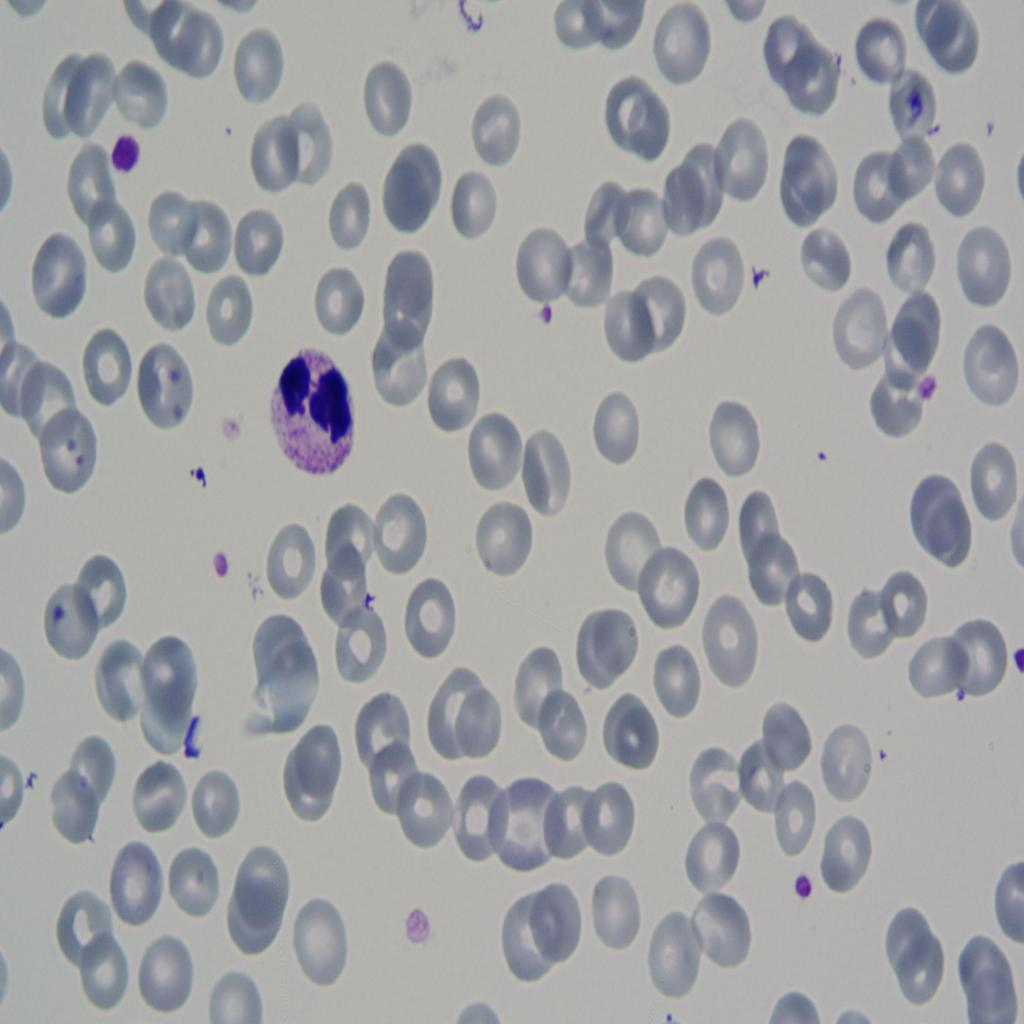Neutrofil: (259, 339, 356, 480)
Platelet: (108, 120, 148, 196), (912, 363, 956, 417), (785, 860, 821, 912), (896, 90, 931, 140), (402, 894, 430, 953), (204, 550, 244, 584), (534, 294, 556, 342), (1006, 638, 1024, 685)
